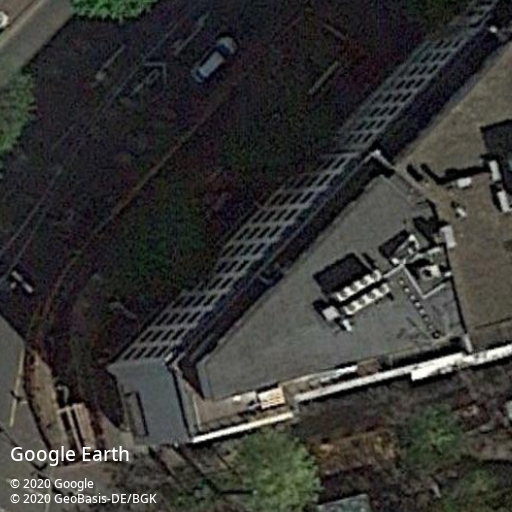Chiller: (335, 269, 385, 303), (341, 281, 391, 315), (417, 263, 441, 283)
